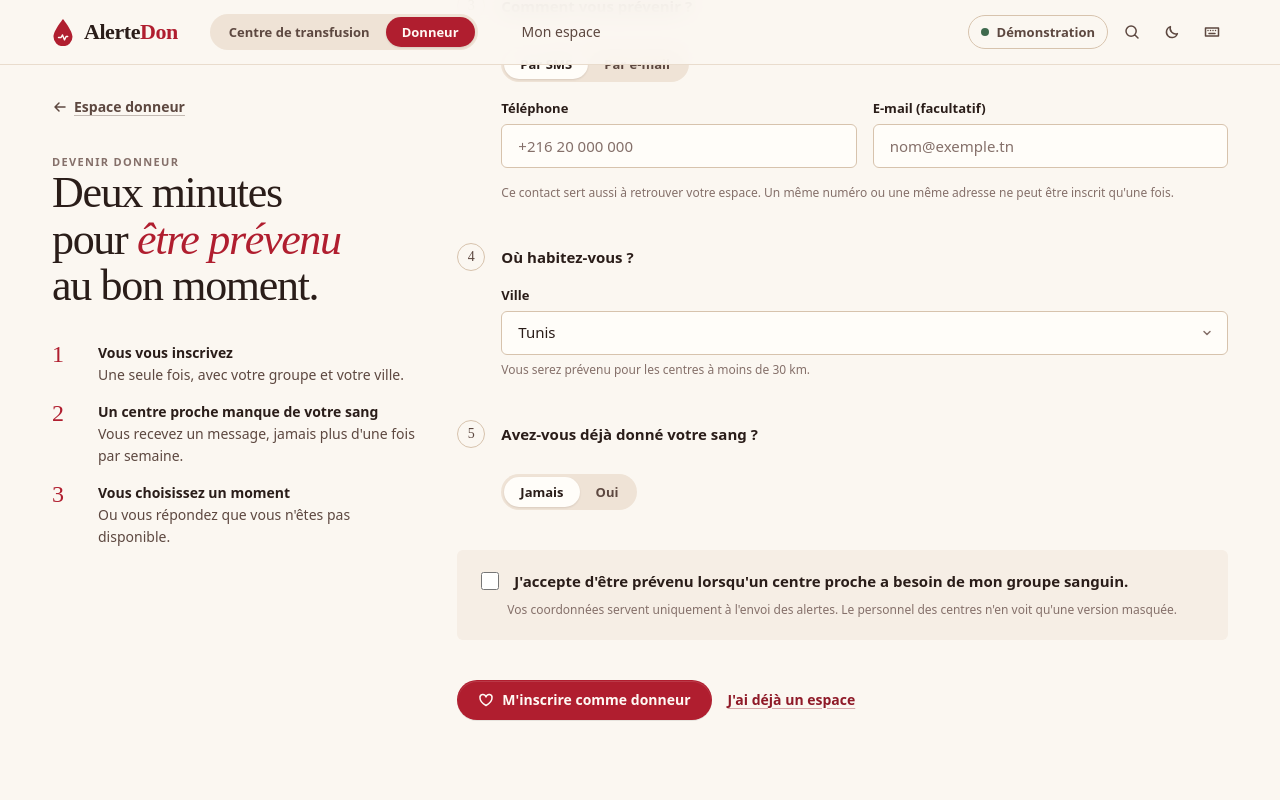
Test case: donor space (UC1 and UC4 belong to the Donneur actor) › refuses registration without consent
(page scrolled)
Step 1. Click the button "M'inscrire comme donneur" → {"x": 584, "y": 700}, box [457,680,712,720]
(page scrolled)
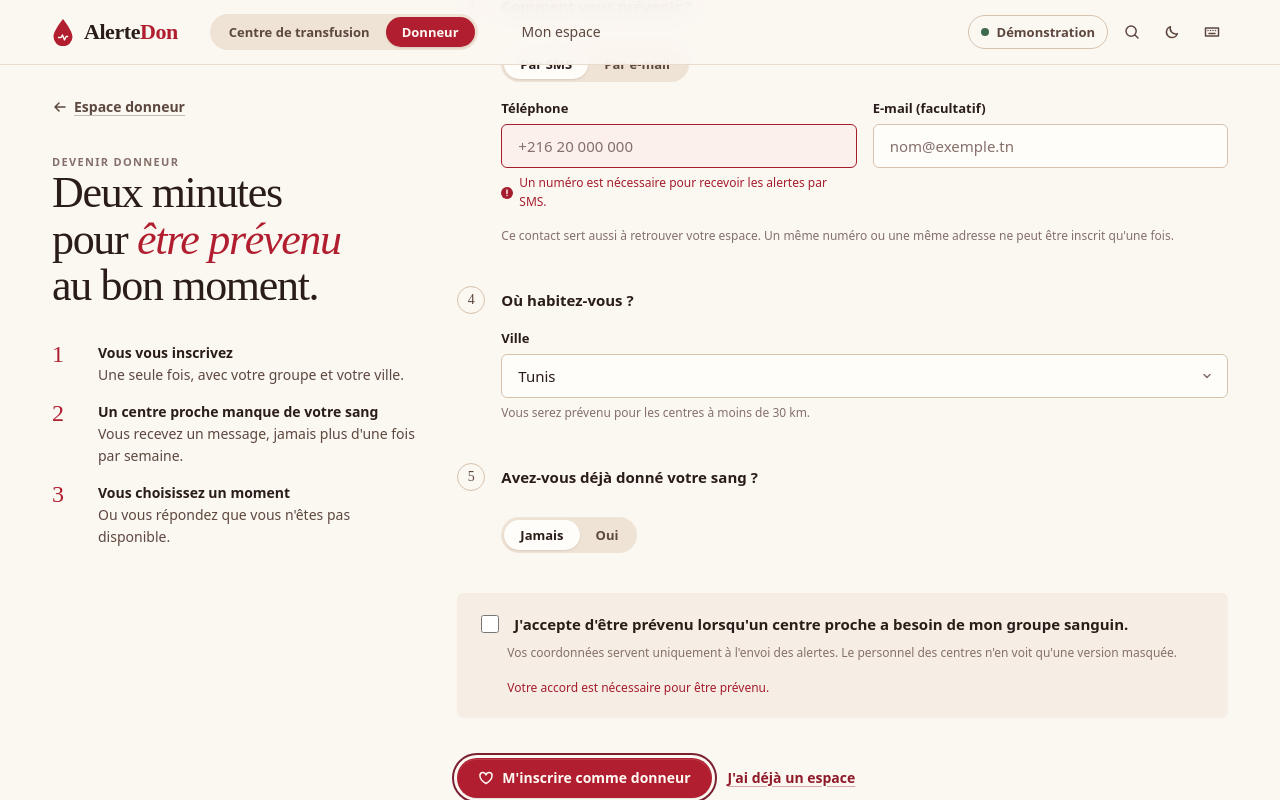
Result: the text "Votre accord est nécessaire pour être prévenu." is shown at [507,679,769,696]
